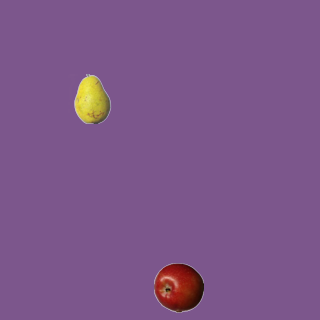Apple Braeburn: (153, 262, 203, 312)
Pear Monster: (67, 73, 117, 123)
